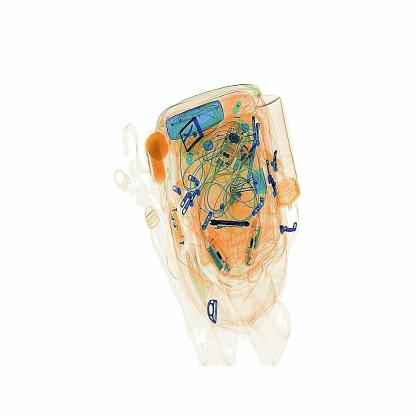knife: (209, 216, 251, 231)
